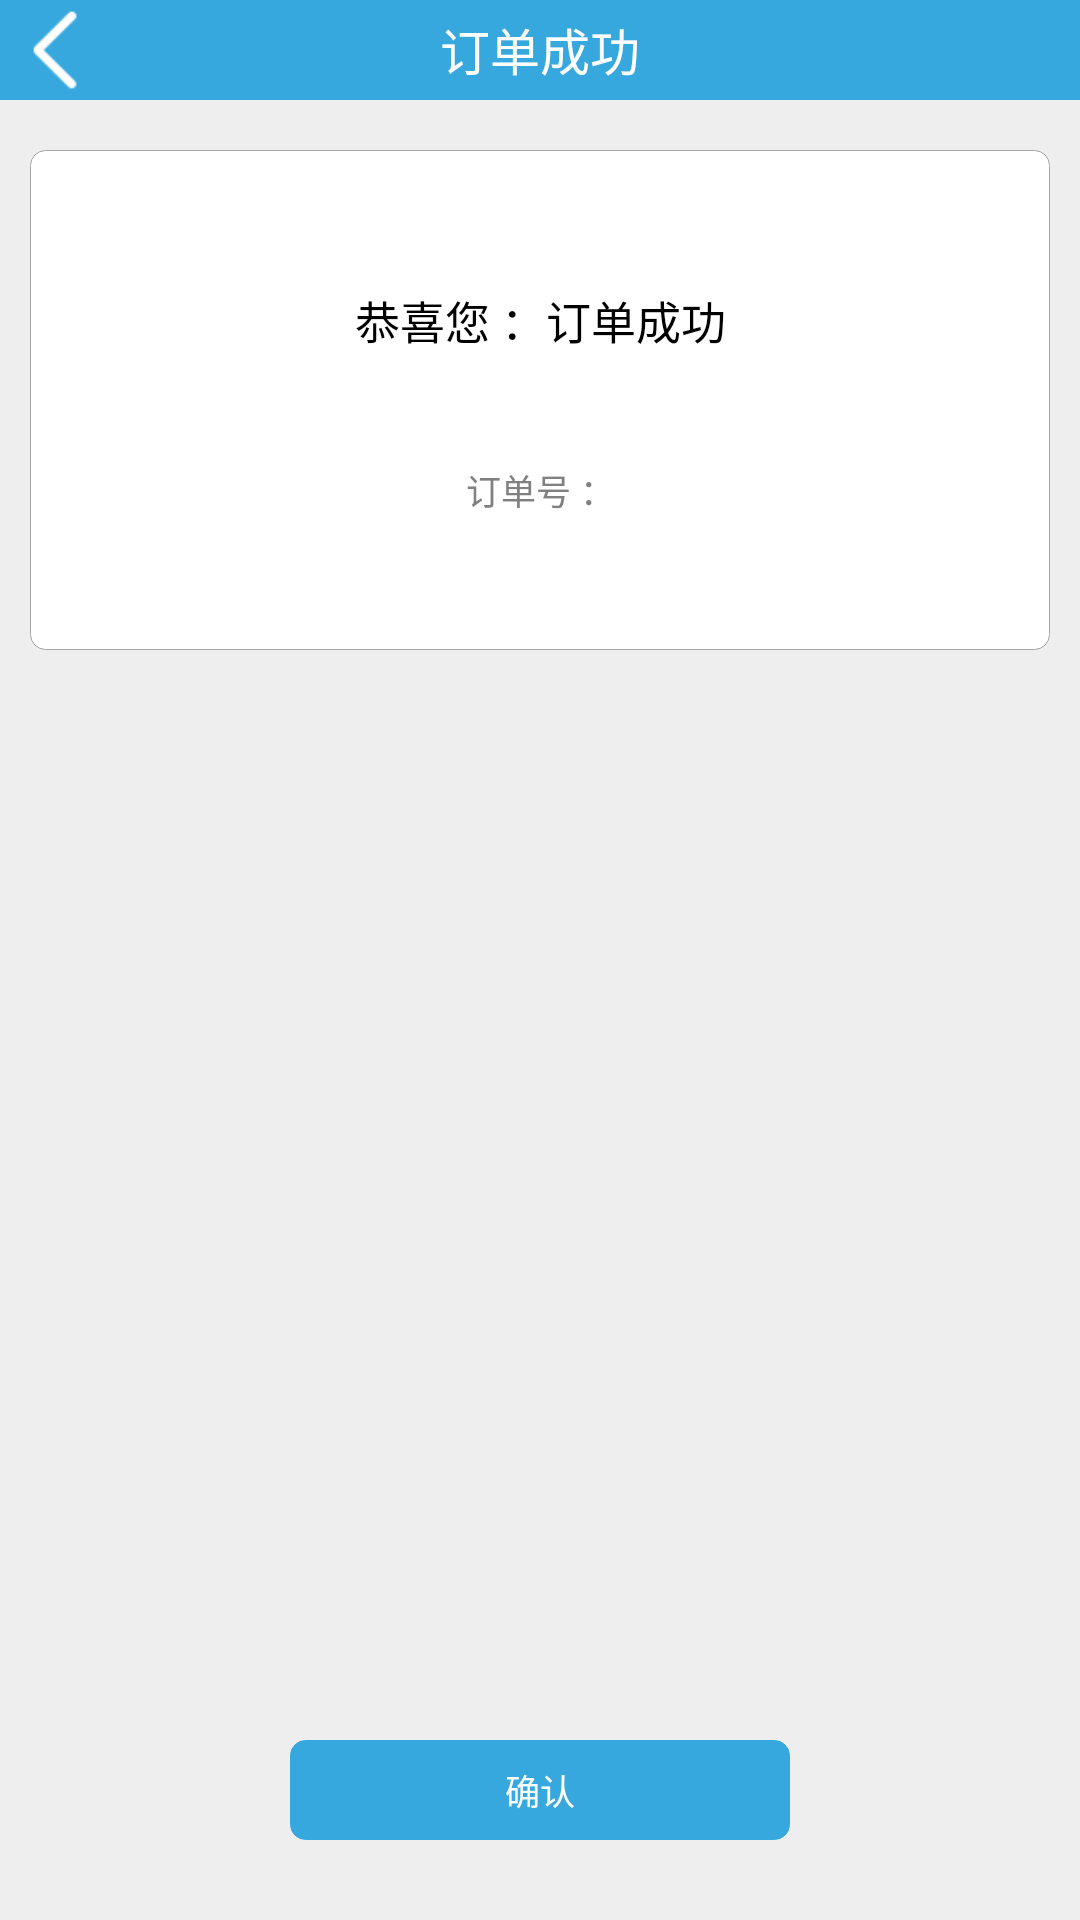

Named icons in this screenshot (1080w x 1920h) and their centers, [x,y]:
leftarrowicon: [55,50]
